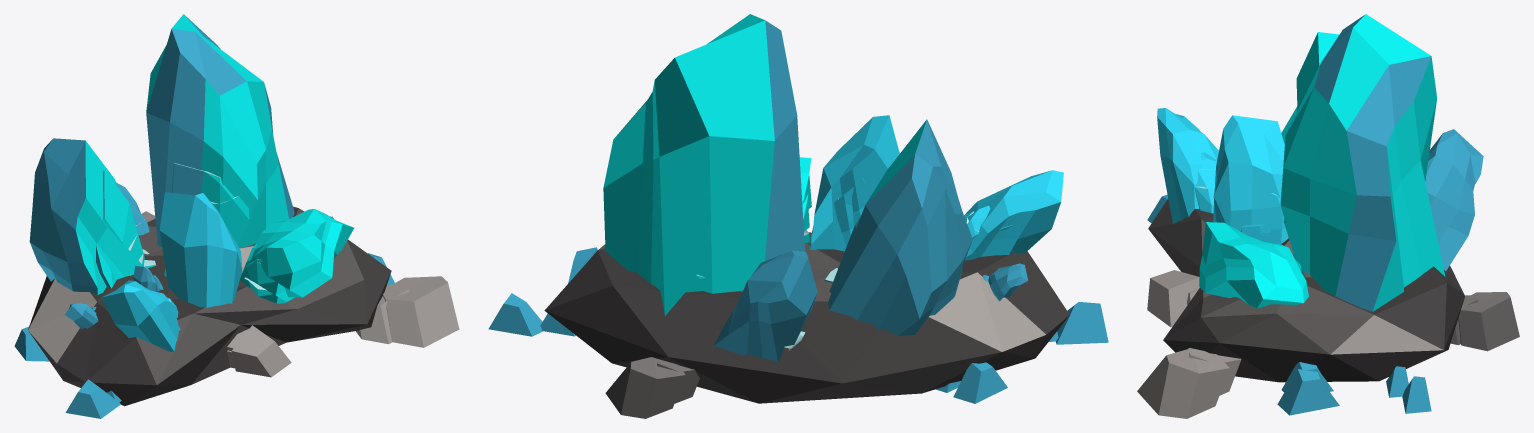
Rendered from SafirSet.fbx.
3 renders of one model, left to right at view 1: azimuth 30°, elevation 25°; view 2: azimuth 150°, elevation 25°; view 3: azimuth 270°, elevation 25°, orthographic. The views are drawn at different scales.
Visible parts, largest first — view 1: Safir1, Safir2, Safir3, Safir4, Safir5; view 2: Safir1, Safir2, Safir3, Safir4; view 3: Safir1, Safir2, Safir3, Safir4.
Boxes of the visible parts, <box> form: Safir1: <box>14,14,459,418</box>; Safir2: <box>91,163,409,402</box>; Safir3: <box>100,196,256,298</box>; Safir4: <box>103,219,293,347</box>; Safir5: <box>227,277,295,368</box>; Safir1: <box>488,14,1108,418</box>; Safir2: <box>540,178,1058,392</box>; Safir3: <box>541,194,979,371</box>; Safir4: <box>657,201,848,403</box>; Safir1: <box>1137,14,1519,418</box>; Safir2: <box>1187,152,1477,397</box>; Safir3: <box>1188,169,1408,396</box>; Safir4: <box>1194,186,1259,290</box>.
Bounding box in the file's own units: 2.66 × 1.85 × 2.09.
2 materials, 2 textured.
